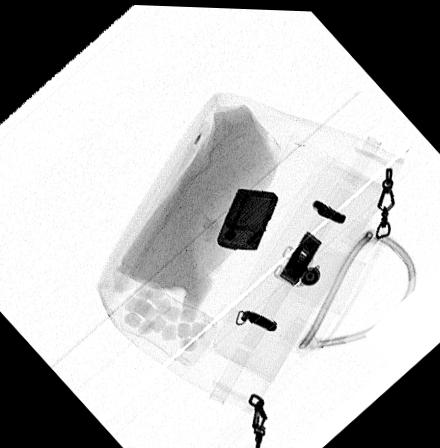Lighter: (216, 185, 279, 248)
